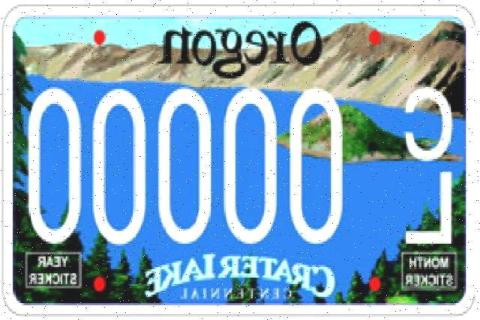LicensePlate: (28, 80, 356, 246)
